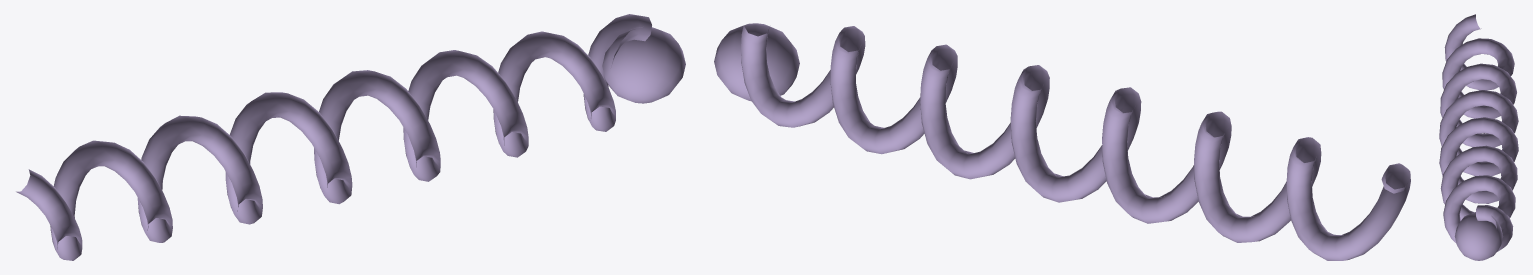
File: titin.glb
3 renders of one model, left to right at view 1: azimuth 30°, elevation 25°; view 2: azimuth 150°, elevation 25°; view 3: azimuth 270°, elevation 25°, orthographic. The views are drawn at different scales.
Parts seen in each view (by area): view 1: Titin_ElasticCoil, ThickFilamentAttachment; view 2: Titin_ElasticCoil, ThickFilamentAttachment; view 3: Titin_ElasticCoil, ThickFilamentAttachment.
Boxes of the visible parts, bbox=[...] form: Titin_ElasticCoil: bbox=[16, 14, 651, 260]; ThickFilamentAttachment: bbox=[602, 27, 685, 103]; Titin_ElasticCoil: bbox=[741, 26, 1410, 260]; ThickFilamentAttachment: bbox=[714, 23, 799, 101]; Titin_ElasticCoil: bbox=[1439, 14, 1518, 251]; ThickFilamentAttachment: bbox=[1454, 212, 1503, 260].
Size of the model in its own units: 0.3231 by 0.0526 by 0.0527.
